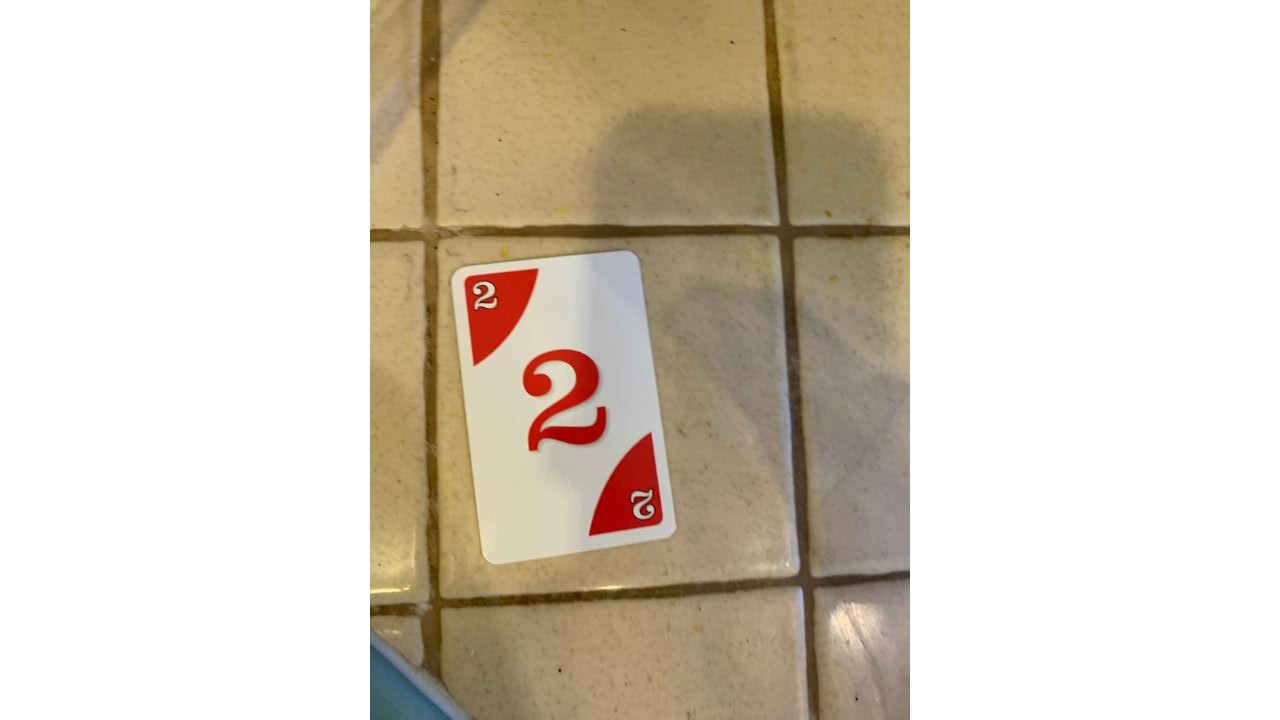two: (446, 244, 677, 566)
